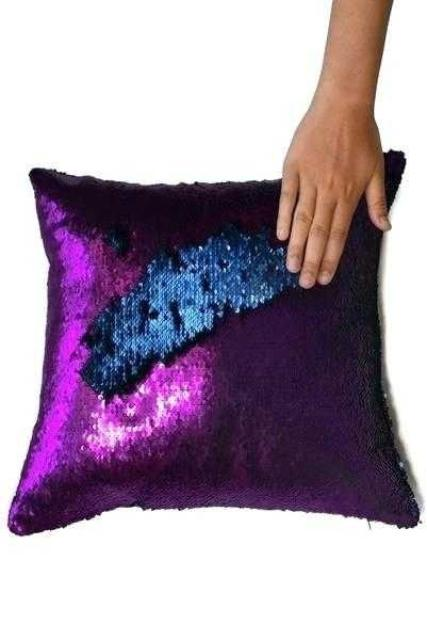pillow: (7, 149, 421, 536)
